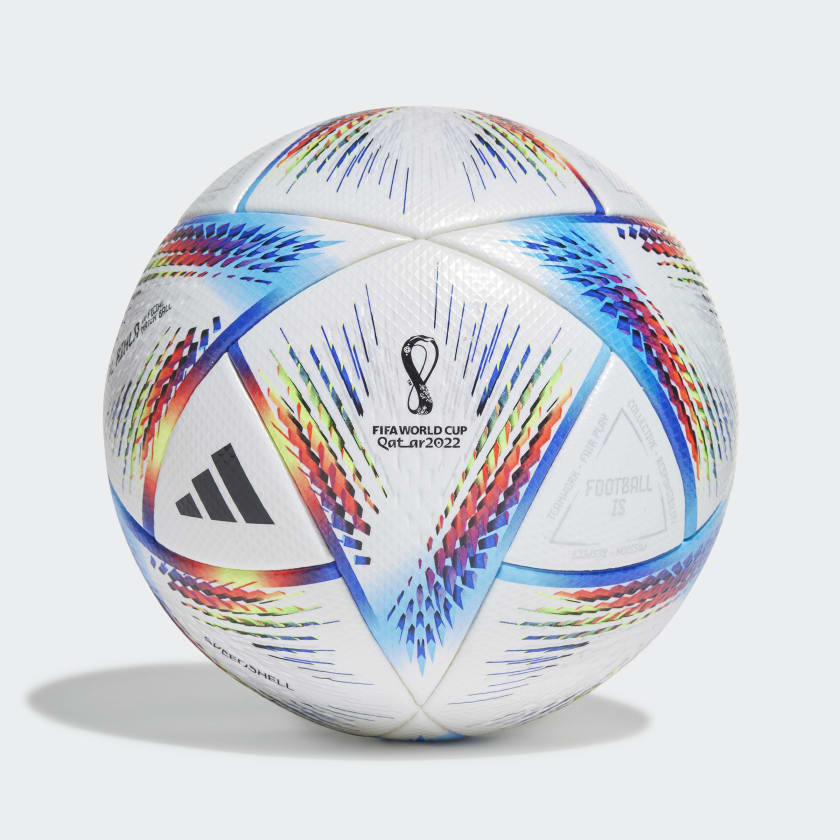ball: (103, 105, 734, 744)
